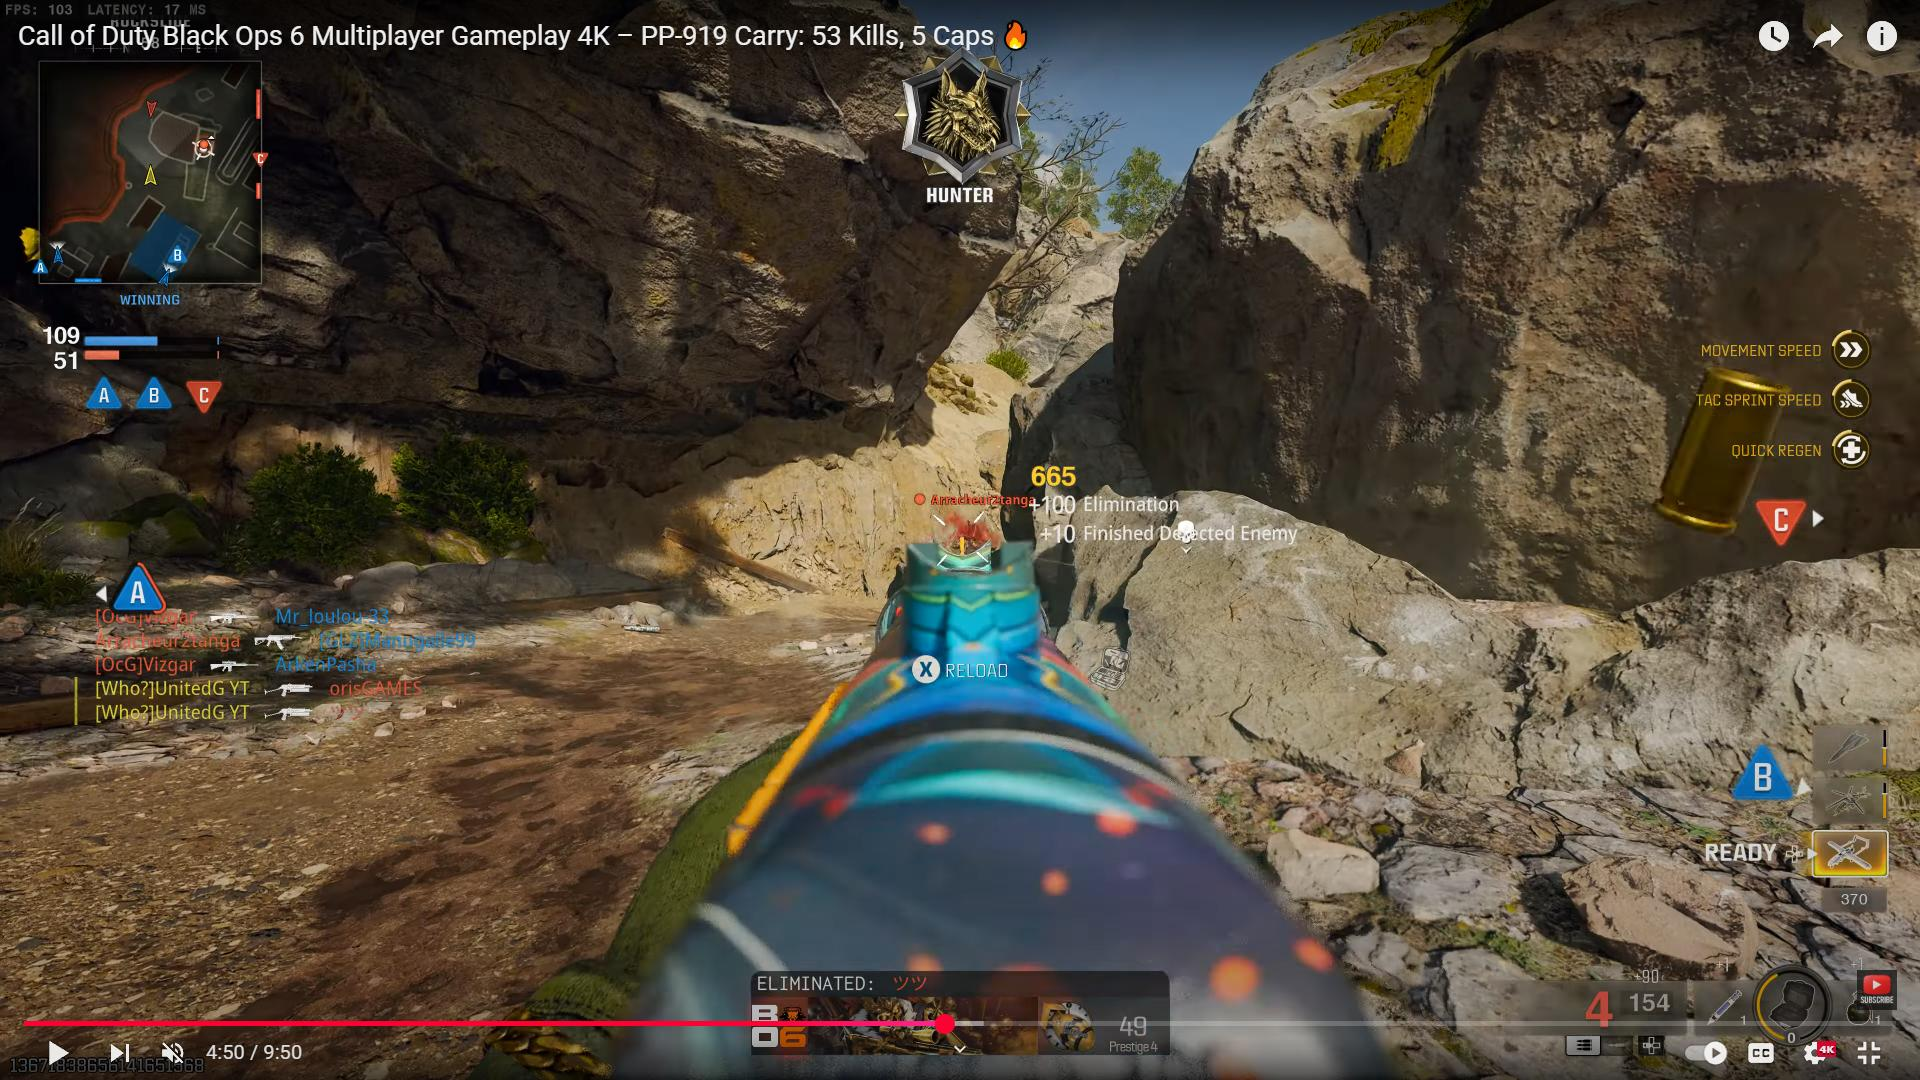Enemy: (944, 516, 1002, 559)
